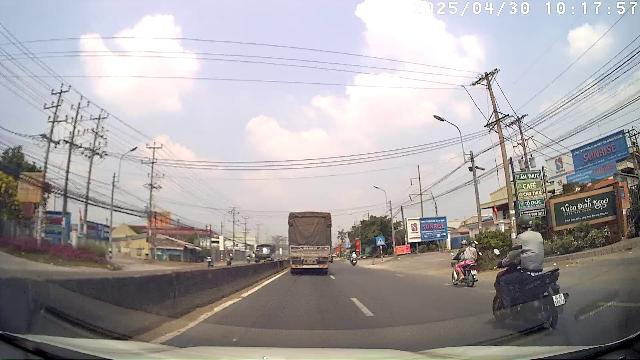423a-duong-nguoi-di-bo-sang-ngang-1: (376, 237, 385, 245)
